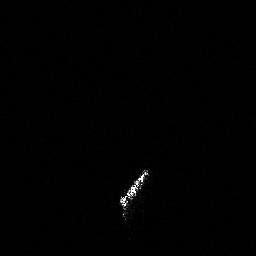ship: (117, 168, 151, 224)
